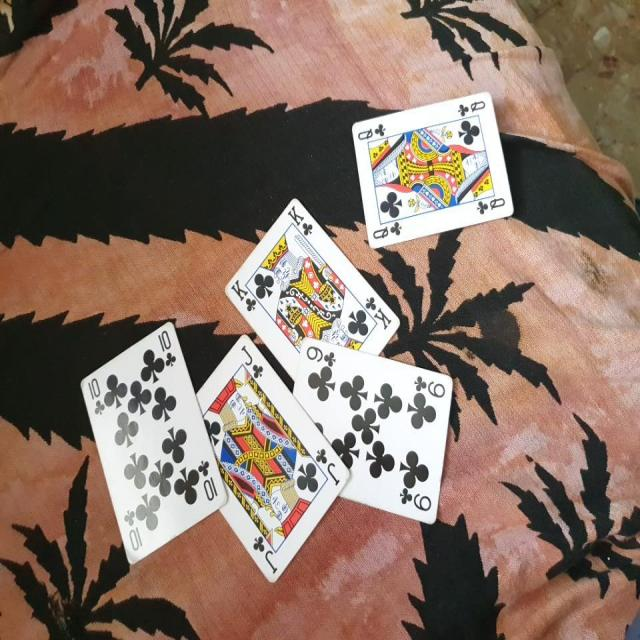10 Trefoils: (79, 317, 227, 562)
9 Trefoils: (292, 336, 453, 525)
J Trefoils: (196, 332, 349, 585)
K Trefoils: (223, 193, 402, 382)
Q Trefoils: (350, 85, 518, 247)
